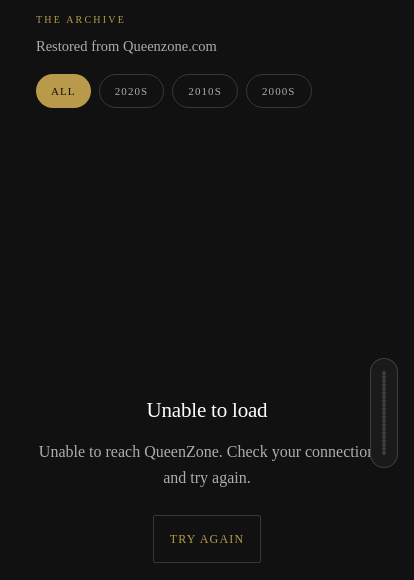
Test case: NewsIndexScreen › shows an error and retries
Expected: the text "Unable to load" is shown, [147,398,267,423]
Click the button "Try again" at (207,539), box [153,515,261,563]
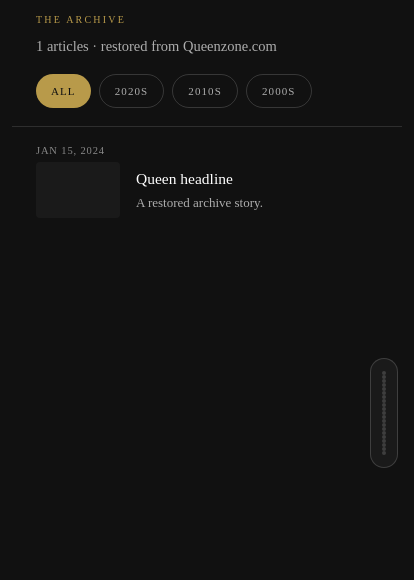
Now the button with aria-label "Open Queen headline" is shown, box [12,126,402,234]
